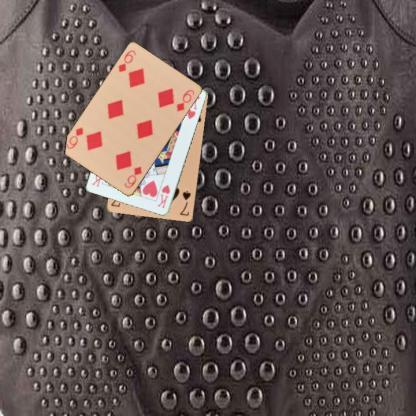6d: (121, 164, 144, 190), (115, 48, 137, 74)
7s: (177, 188, 192, 218)
Kh: (155, 182, 171, 210)
